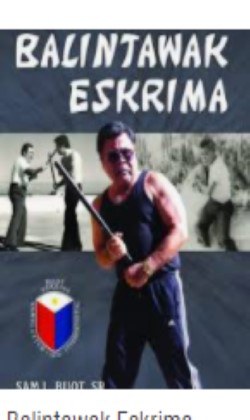baston_e: (54, 168, 120, 234)
baston_v: (50, 158, 62, 167)
